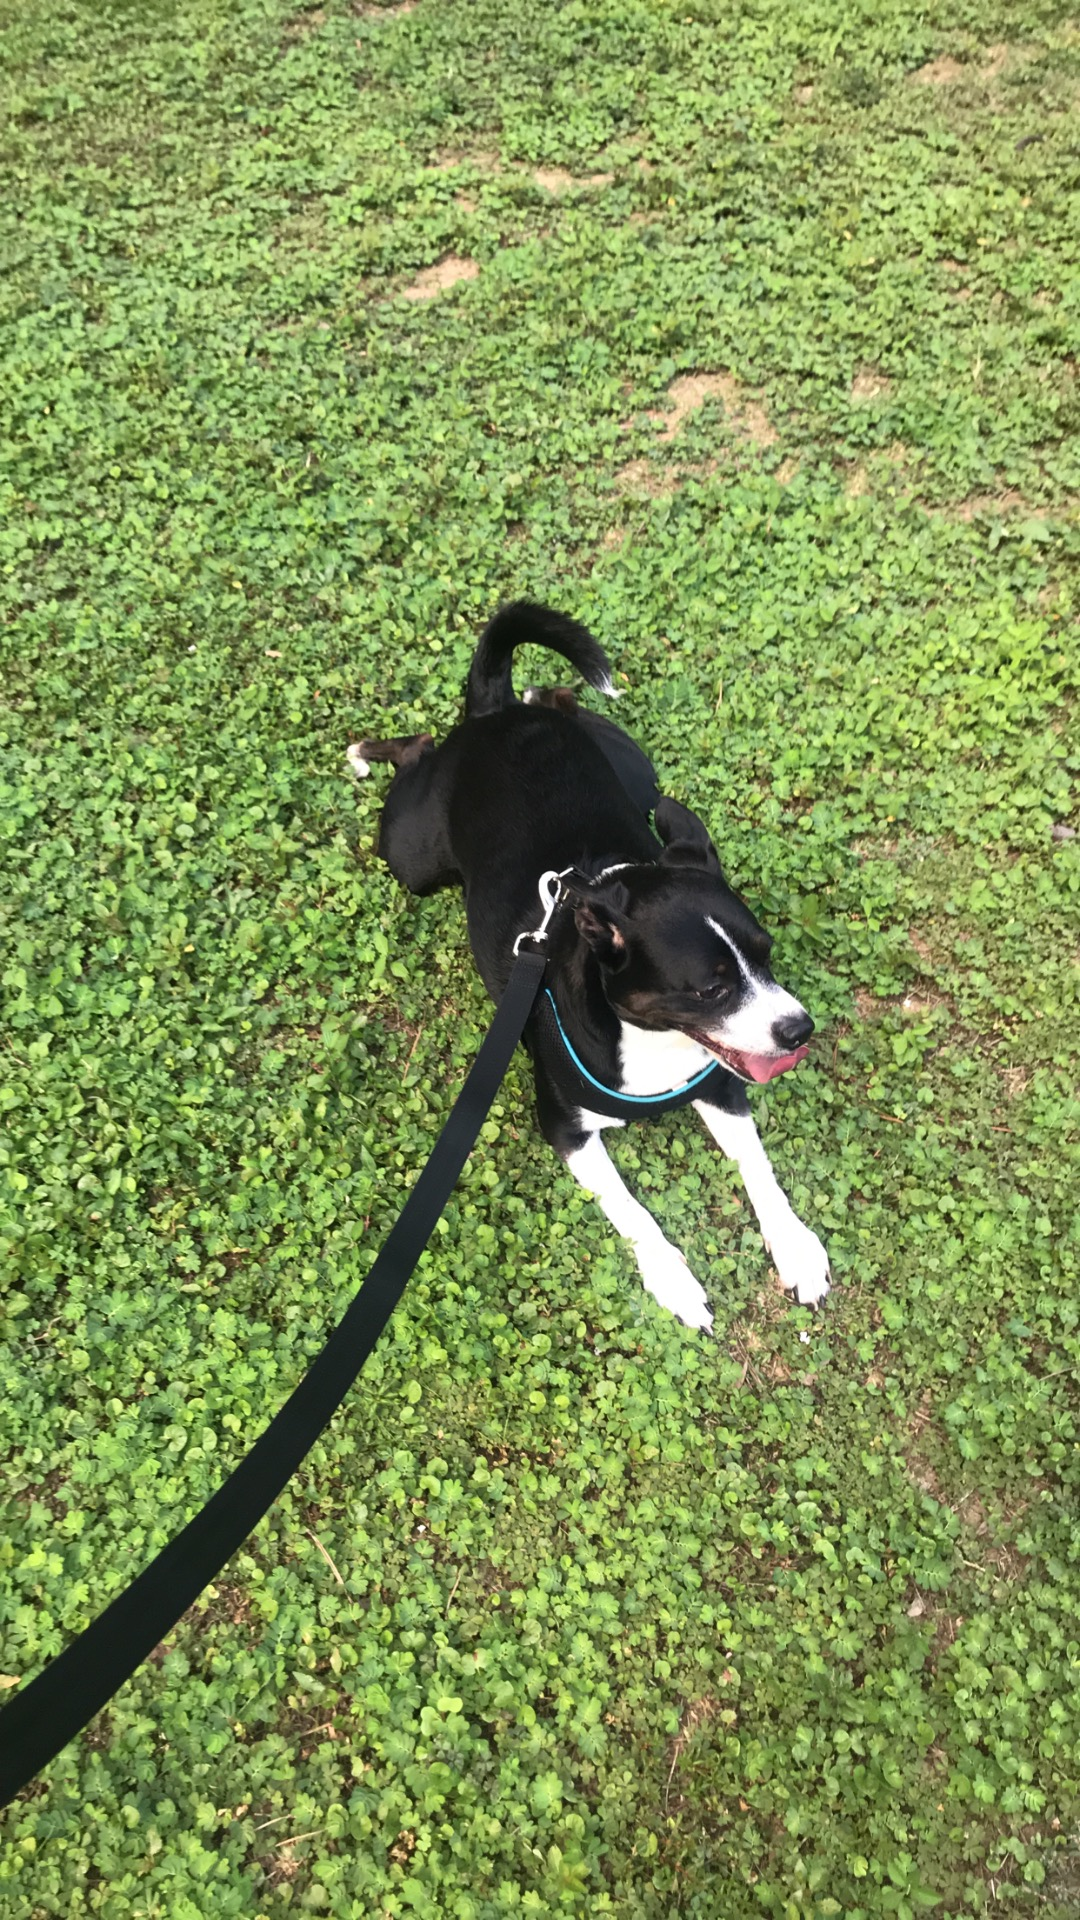Harley: (318, 589, 876, 1335)
